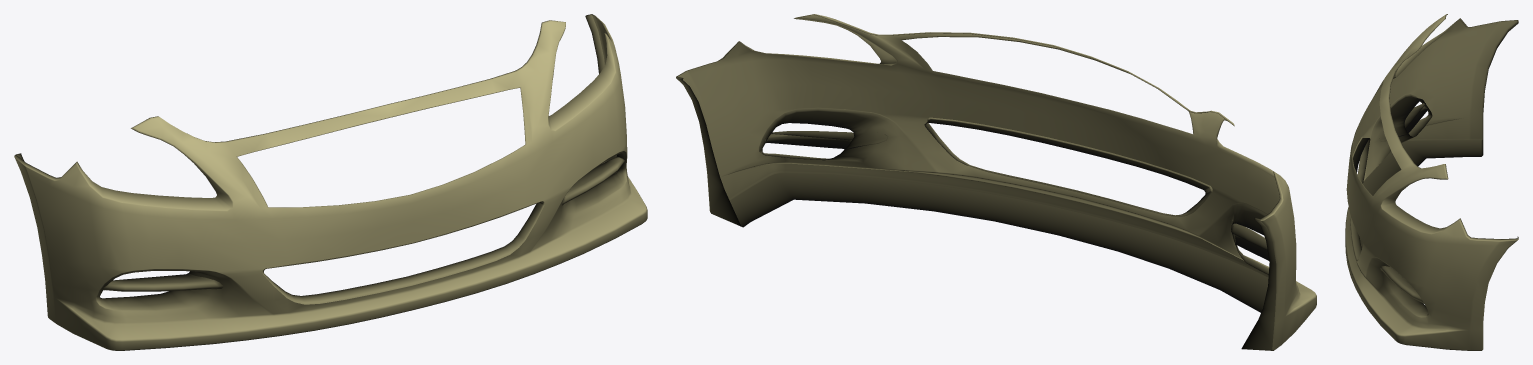
Rendered from G37_FB_02_Duco.fbx.
3 renders of one model, left to right at view 1: azimuth 30°, elevation 25°; view 2: azimuth 150°, elevation 25°; view 3: azimuth 270°, elevation 25°, orthographic. The views are drawn at different scales.
Visible parts, largest first — view 1: G37_FB_02_Duco; view 2: G37_FB_02_Duco; view 3: G37_FB_02_Duco.
Boxes of the visible parts, x1,y1,x2,y2 form: G37_FB_02_Duco: (14,14,647,350); G37_FB_02_Duco: (676,14,1316,350); G37_FB_02_Duco: (1345,14,1518,350).
Size of the model in its own units: 182 by 61.29 by 60.54.
